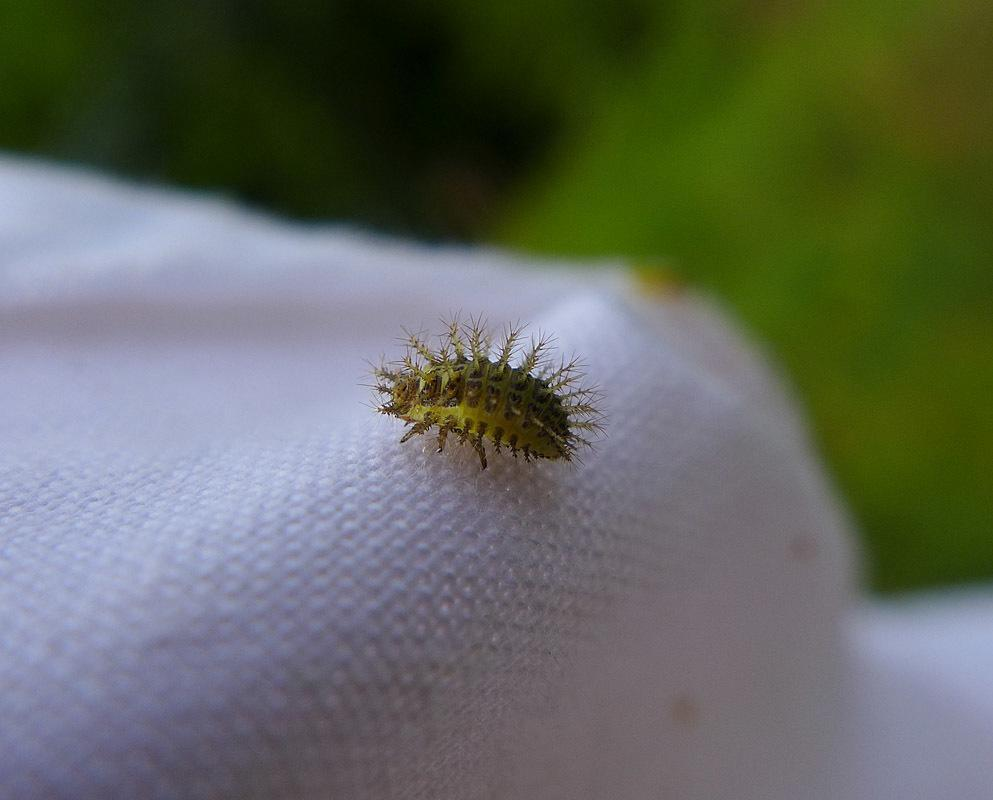ladybug: (353, 305, 617, 477)
